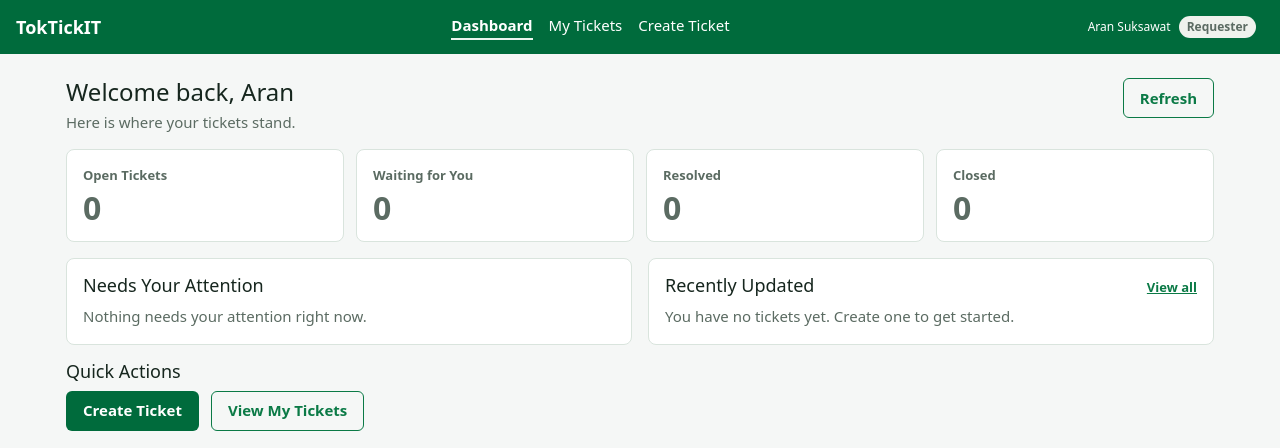
Application shell — role-aware navigation › opens and closes the identity dropdown with Change Password and Log Out actions
The image size is (1280, 448).
Expected: the text "Aran Suksawat" is shown, x1=1088 y1=18 x2=1171 y2=36
Click the button "Aran Suksawat Requester" at [1172, 27], box x1=1080 y1=12 x2=1264 y2=42
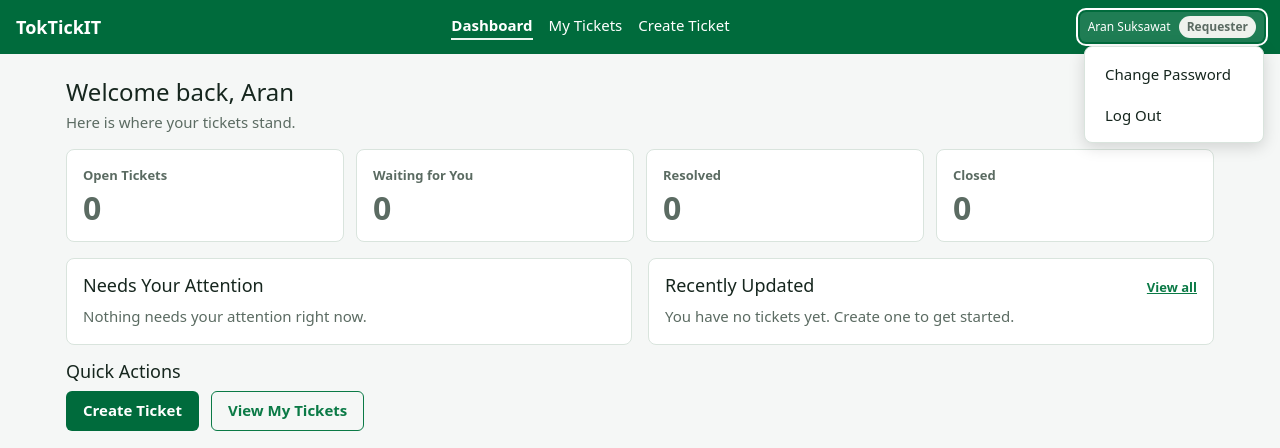
Expected: the menu item "Change Password" is shown, x1=1093 y1=55 x2=1255 y2=94
Expected: the menu item "Log Out" is shown, x1=1093 y1=96 x2=1255 y2=134
